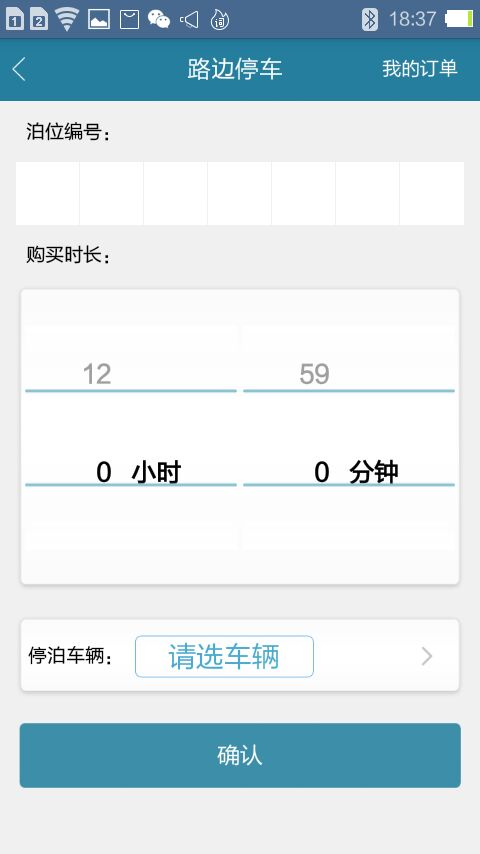button: (11, 714, 469, 795)
imgbutton: (401, 636, 444, 676)
